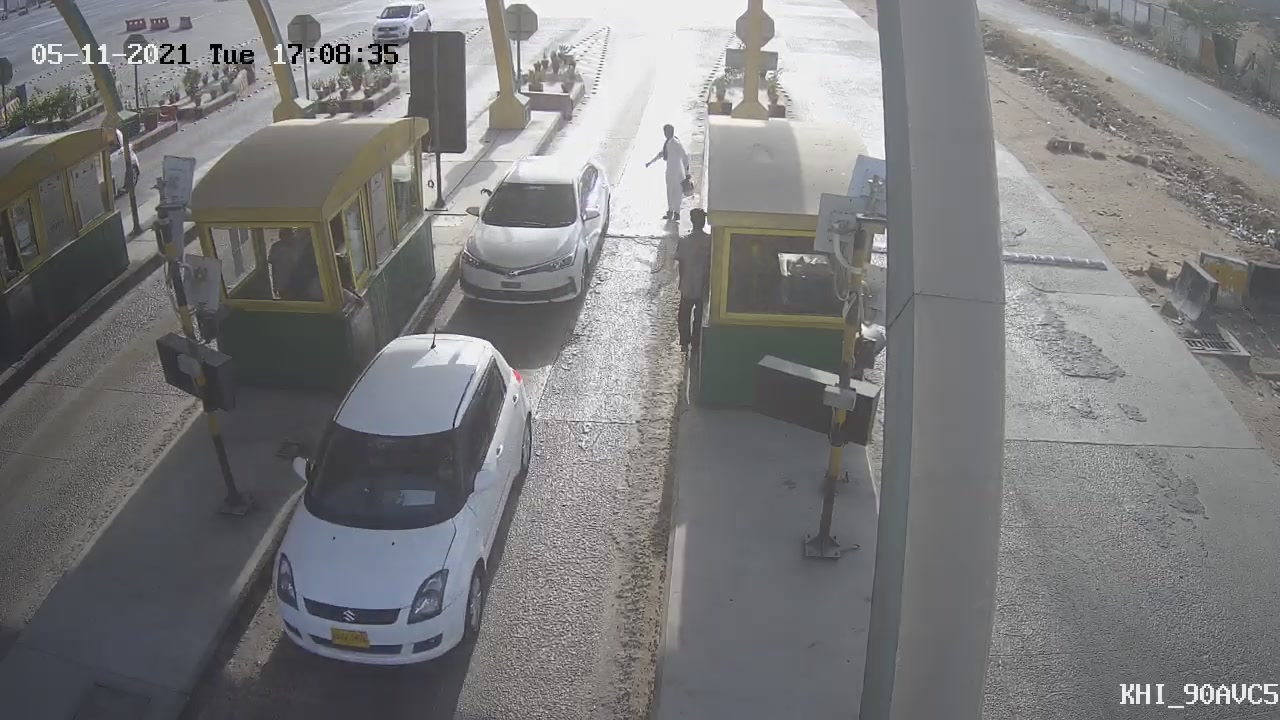F1: (435, 140, 629, 331)
